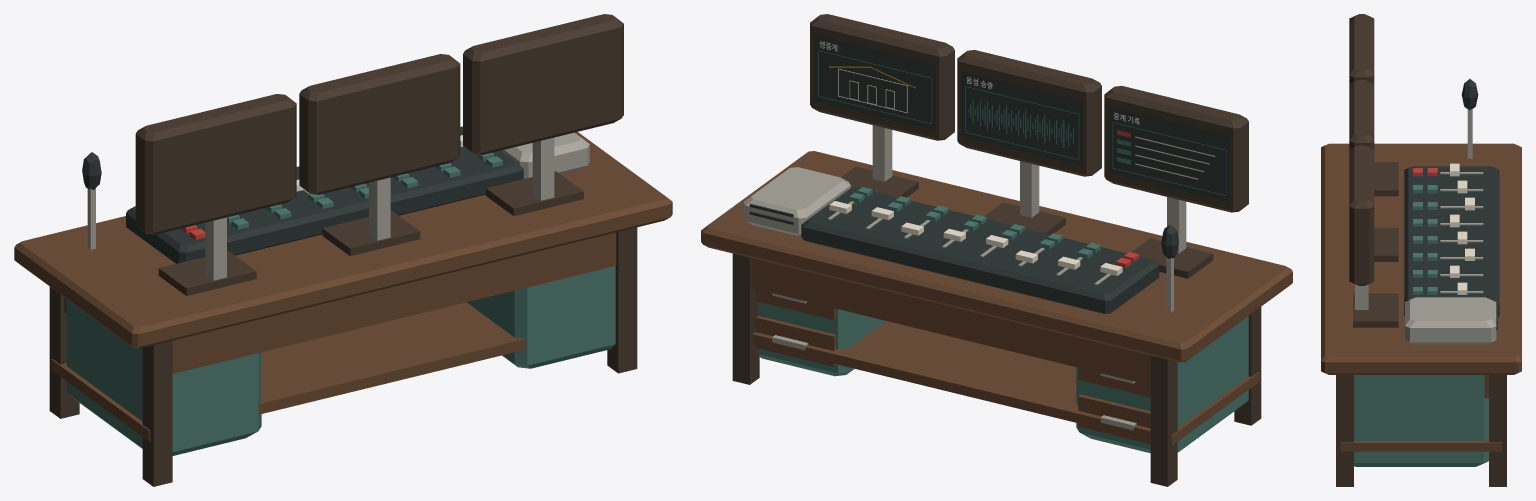
Rendered from S01_Live_Broadcast_Console.fbx.
3 views of the same model, side by side, from view 1: azimuth 30°, elevation 25°; view 2: azimuth 150°, elevation 25°; view 3: azimuth 270°, elevation 25° (orthographic). The views are drawn at different scales.
Parts seen in each view (by area): view 1: Structure, Record_Device; view 2: Structure, Screen_02, Screen_01, Screen_03, Record_Device; view 3: Structure, Record_Device.
Boxes of the visible parts, x1,y1,x2,y2 form: Structure: (14, 14, 672, 486); Record_Device: (501, 132, 589, 178); Structure: (701, 14, 1292, 486); Screen_02: (961, 71, 1082, 166); Screen_01: (814, 35, 935, 130); Screen_03: (1109, 107, 1229, 201); Record_Device: (743, 167, 850, 235); Structure: (1321, 14, 1521, 486); Record_Device: (1405, 297, 1497, 344).
Bounding box in the file's own units: 3.7 × 2.24 × 1.45.
8 materials, 1 textured.
